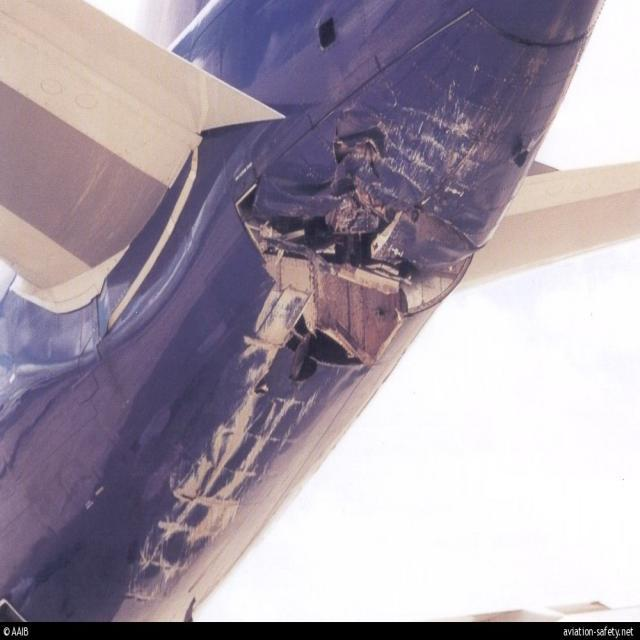dent: (252, 102, 318, 158), (267, 173, 333, 196), (454, 212, 486, 228)
